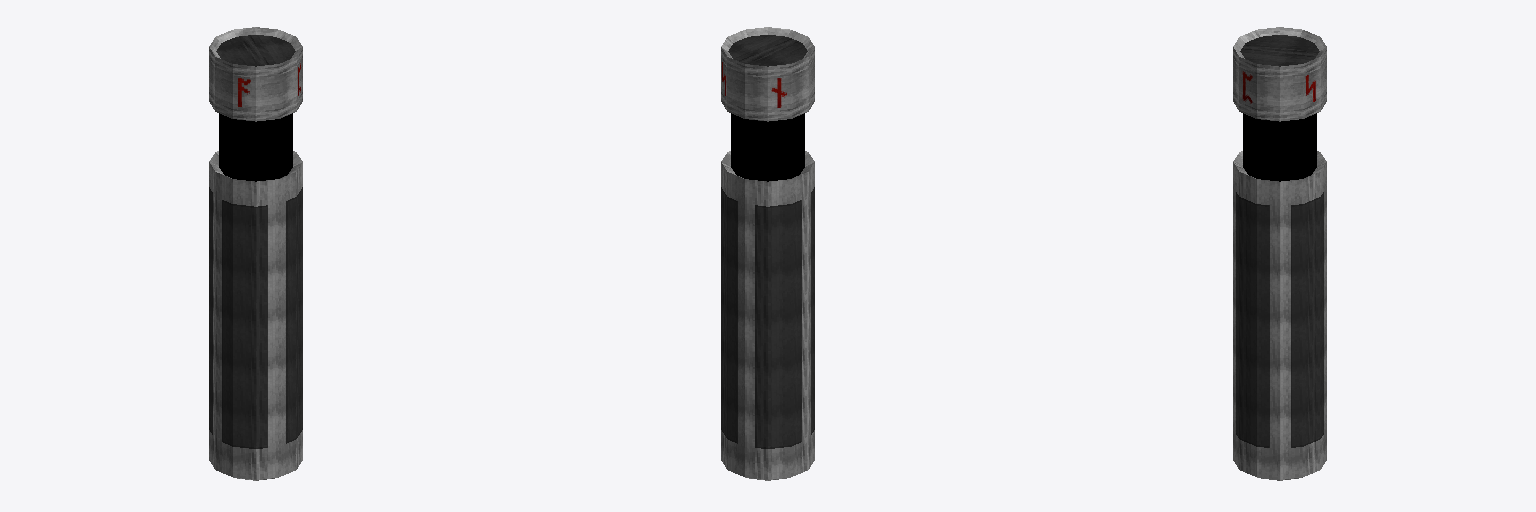
3 renders of one model, left to right at view 1: azimuth 30°, elevation 25°; view 2: azimuth 150°, elevation 25°; view 3: azimuth 270°, elevation 25°, orthographic.
Visible parts, largest first — view 1: Cube.002; view 2: Cube.002; view 3: Cube.002.
Boxes of the visible parts, <box> form: Cube.002: <box>209,27,302,480</box>; Cube.002: <box>721,27,814,480</box>; Cube.002: <box>1233,27,1326,480</box>.
Bounding box in the file's own units: 0.1404 × 0.6927 × 0.1404.
1 materials, 1 textured.